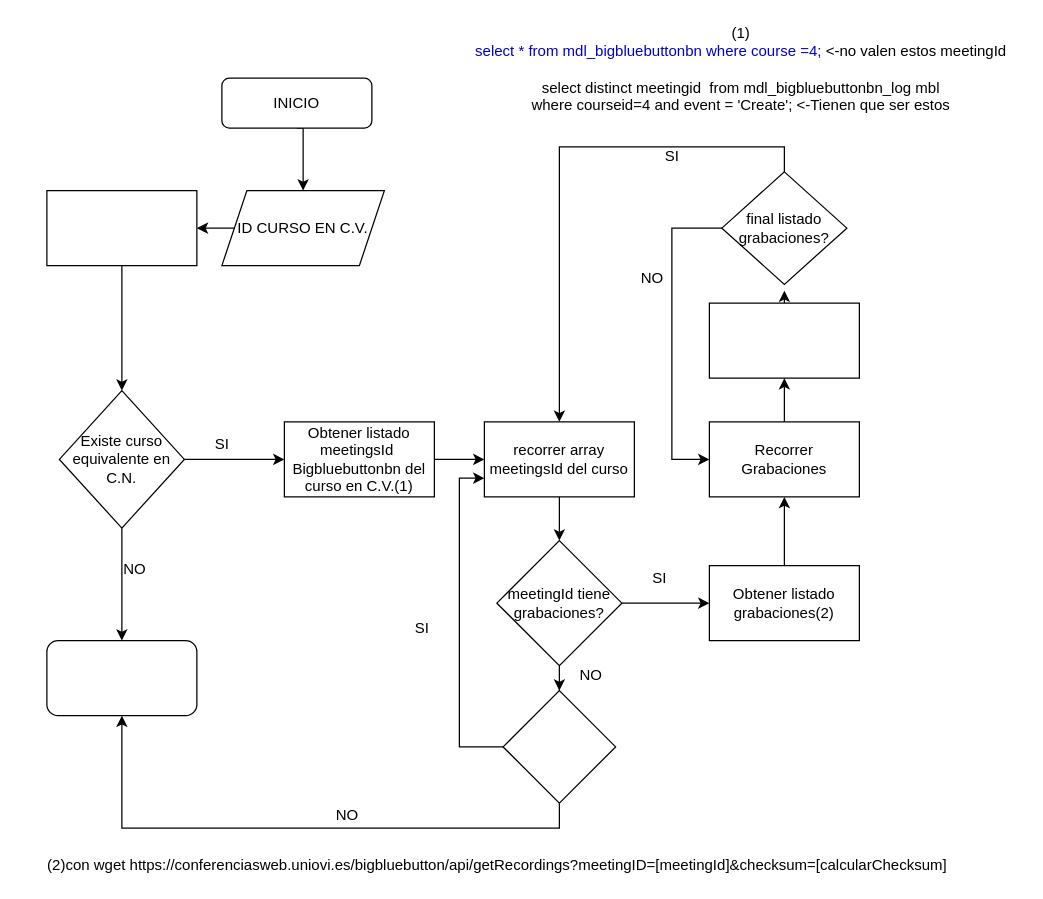
This 1043x899 diagram has some shape labels left out. Each missing label, with the centre of its shape:
Arreglar enlaces: the point at 783,340
FIN: the point at 121,677
Hay mas meetingId ?: the point at 559,746
Obtener ID curso equivalente en campus nuevo: the point at 121,227
